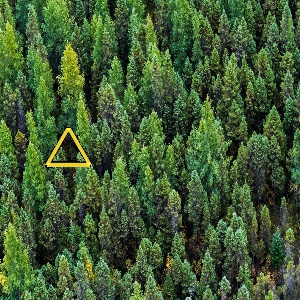triangle: (41, 124, 94, 172)
